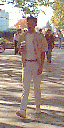person: (14, 16, 44, 119)
